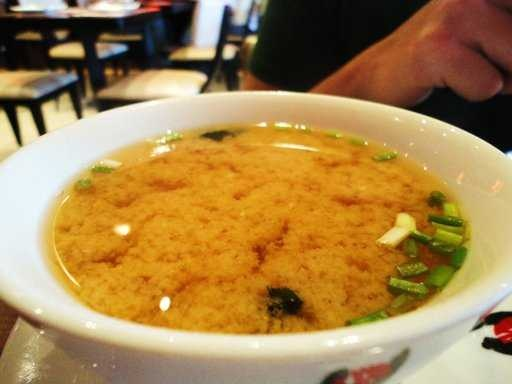soup: (48, 125, 471, 325)
